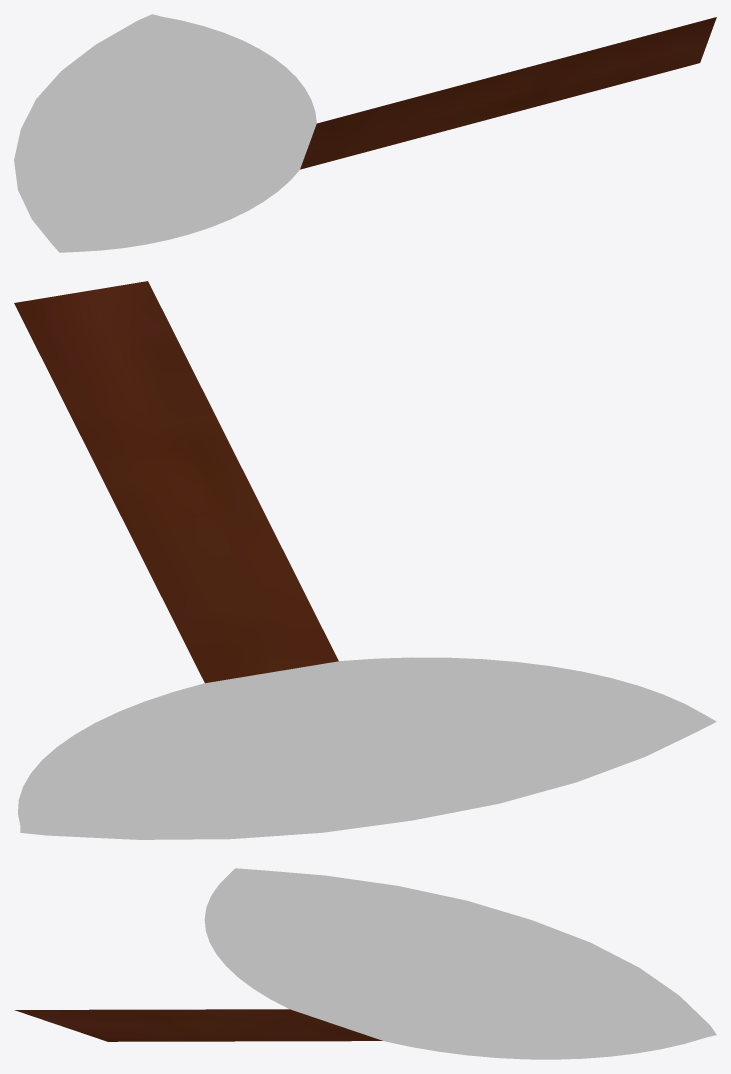
The model's file is Palco_Base_Auditorio_Menor.fbx.
The picture shows the model from 3 angles, top to bottom: view 1: azimuth 30°, elevation 25°; view 2: azimuth 150°, elevation 25°; view 3: azimuth 270°, elevation 25°; orthographic projection. The views are drawn at different scales.
Parts seen in each view (by area): view 1: Base auditorio_palco Menor L, Rampa Menor L; view 2: Base auditorio_palco Menor L, Rampa Menor L; view 3: Base auditorio_palco Menor L, Rampa Menor L.
Boxes of the visible parts, bbox=[...] form: Base auditorio_palco Menor L: bbox=[14, 14, 316, 252]; Rampa Menor L: bbox=[300, 17, 716, 169]; Base auditorio_palco Menor L: bbox=[18, 657, 716, 839]; Rampa Menor L: bbox=[14, 281, 338, 683]; Base auditorio_palco Menor L: bbox=[204, 868, 716, 1059]; Rampa Menor L: bbox=[14, 1009, 382, 1041].
Bounding box in the file's own units: 1251 × 265 × 1169.
